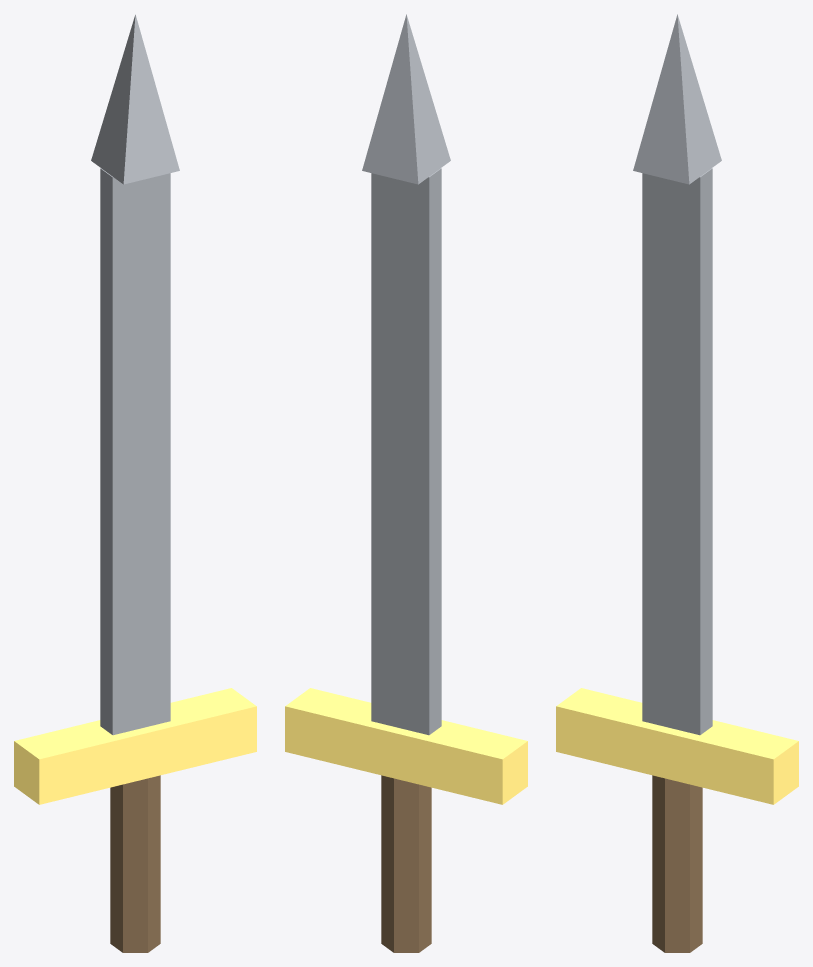
File: greatsword.glb
The picture shows the model from 3 angles, left to right: view 1: azimuth 30°, elevation 25°; view 2: azimuth 150°, elevation 25°; view 3: azimuth 330°, elevation 25°; orthographic projection.
Parts seen in each view (by area): view 1: GreatswordBlade, GreatswordGuard, GreatswordGrip, GreatswordTip; view 2: GreatswordBlade, GreatswordGuard, GreatswordGrip, GreatswordTip; view 3: GreatswordBlade, GreatswordGuard, GreatswordGrip, GreatswordTip.
Boxes of the visible parts, x1=… form: GreatswordBlade: x1=100, y1=168, x2=170, y2=735; GreatswordGuard: x1=14, y1=688, x2=256, y2=804; GreatswordGrip: x1=110, y1=775, x2=160, y2=952; GreatswordTip: x1=91, y1=14, x2=179, y2=184; GreatswordBlade: x1=371, y1=168, x2=441, y2=735; GreatswordGuard: x1=285, y1=688, x2=527, y2=804; GreatswordGrip: x1=381, y1=775, x2=431, y2=952; GreatswordTip: x1=362, y1=14, x2=450, y2=184; GreatswordBlade: x1=642, y1=168, x2=712, y2=735; GreatswordGuard: x1=556, y1=688, x2=798, y2=804; GreatswordGrip: x1=652, y1=775, x2=702, y2=952; GreatswordTip: x1=633, y1=14, x2=721, y2=184.
Bounding box in the file's own units: 0.6 × 2.45 × 0.1556.
